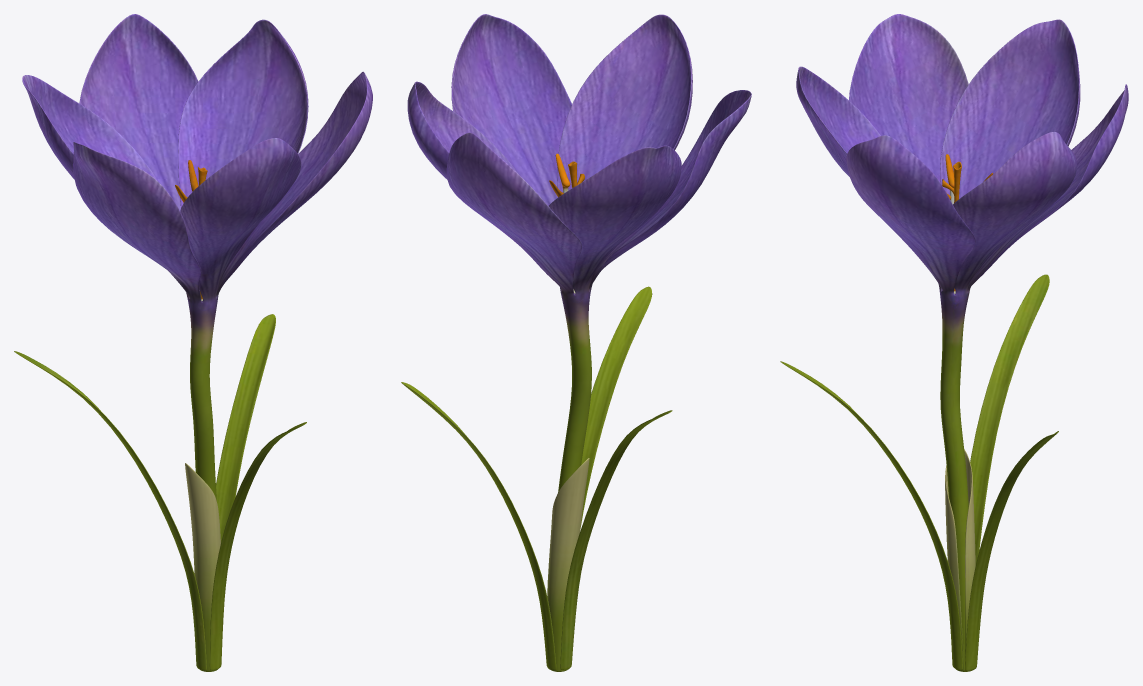
Rendered from bunga_lily.glb.
The picture shows the model from 3 angles, left to right: view 1: azimuth 30°, elevation 25°; view 2: azimuth 150°, elevation 25°; view 3: azimuth 270°, elevation 25°; orthographic projection.
Parts seen in each view (by area): view 1: Object_3.001, Object_2.005, Object_3.002, Object_2.008, Object_2.007, Object_2.004, Object_2.003, Object_2.001, Object_2.006; view 2: Object_3.001, Object_2.003, Object_2.006, Object_2.009, Object_3.002, Object_2.002, Object_2.007, Object_2.004, Object_3.004; view 3: Object_3.001, Object_2.007, Object_2.003, Object_3.002, Object_2.004, Object_2.001, Object_2.005, Object_2.002, Object_2.009, Object_2.008, Object_3.004.
Part boxes in pixels (x1,y1,x2,y2): Object_3.001: (14,304,306,671); Object_2.005: (79,14,198,211); Object_3.002: (22,20,307,206); Object_2.008: (180,138,301,309); Object_2.007: (73,142,202,309); Object_2.004: (178,19,308,207); Object_2.003: (215,71,372,305); Object_2.001: (22,75,158,181); Object_2.006: (22,76,190,306); Object_3.001: (401,286,672,671); Object_2.003: (451,14,571,205); Object_2.006: (548,145,681,301); Object_2.009: (446,132,581,301); Object_3.002: (415,14,690,192); Object_2.002: (557,15,691,192); Object_2.007: (588,90,751,298); Object_2.004: (407,81,562,298); Object_3.004: (549,153,584,293); Object_3.001: (780,274,1058,671); Object_2.007: (849,14,968,181); Object_2.003: (846,135,975,302); Object_3.002: (798,19,1079,289); Object_2.004: (953,132,1076,302); Object_2.001: (940,20,1078,194); Object_2.005: (967,85,1125,289); Object_2.002: (798,66,942,290); Object_2.009: (967,84,1128,298); Object_2.008: (796,67,941,298); Object_3.004: (942,154,993,293).
Bounding box in the file's own units: 7.4 × 14.9 × 7.98.
Materials: 2 (2 with a texture image).
